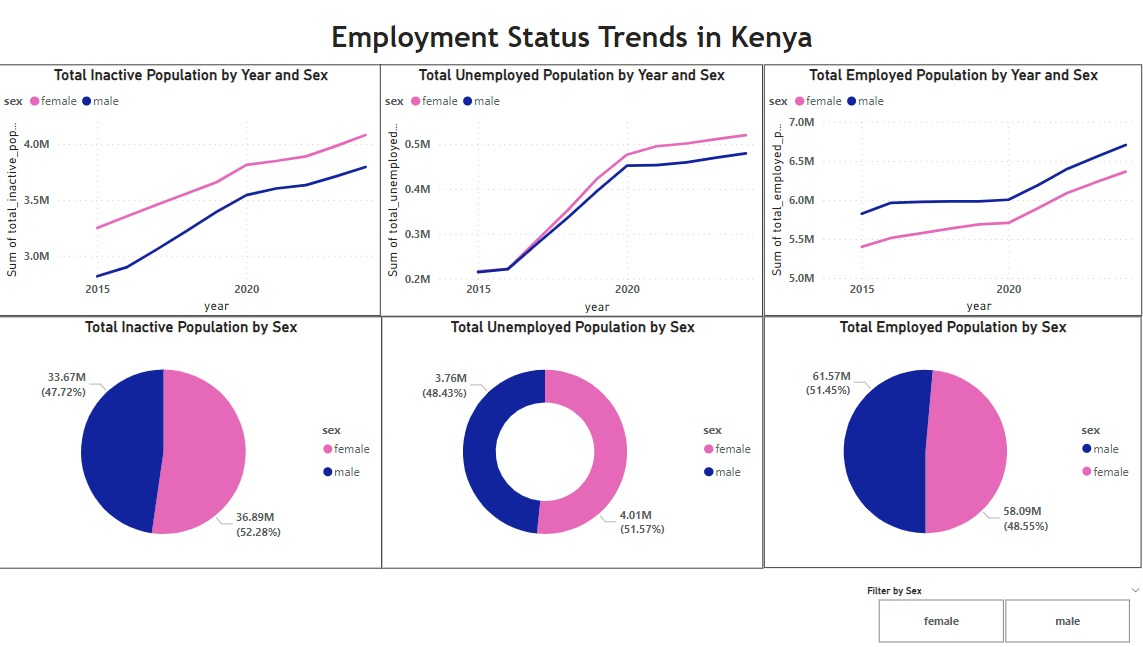

What the dashboard file says about the page in this screenshot:
{"tool":"powerbi","page":{"name":"Employment trends","canvas":[1280,720],"ordinal":0},"visuals":[{"type":"lineChart","title":"Total Inactive Population by Year and Sex","fields":{"Category":["updated_education_df.year"],"Y":["Sum(updated_education_df.total_inactive_population)"],"Series":["updated_education_df.sex"]},"box":[0,72.1,425.5,279.6],"z":0},{"type":"pieChart","title":"Total Inactive Population by Sex","fields":{"Category":["updated_education_df.sex"],"Y":["Sum(updated_education_df.total_inactive_population)"]},"box":[0,351.1,425.5,279.9],"z":1000},{"type":"donutChart","title":"Total Unemployed Population by Sex","fields":{"Y":["Sum(updated_education_df.total_unemployed_population)"],"Category":["updated_education_df.sex"]},"box":[425.5,351.1,423.9,279.9],"z":2000},{"type":"lineChart","title":"Total Unemployed Population by Year and Sex","fields":{"Y":["Sum(updated_education_df.total_unemployed_population)"],"Category":["updated_education_df.year"],"Series":["updated_education_df.sex"]},"box":[424,72,425,280],"z":3000},{"type":"lineChart","title":"Total Employed Population by Year and Sex","fields":{"Y":["Sum(updated_education_df.total_employed_population)"],"Category":["updated_education_df.year"],"Series":["updated_education_df.sex"]},"box":[849.2,72.1,420.2,279.6],"z":4000},{"type":"slicer","fields":{"Values":["updated_education_df.sex"]},"box":[951.2,645.3,328.8,75.6],"z":5000},{"type":"pieChart","title":"Total Employed Population by Sex","fields":{"Y":["Sum(updated_education_df.total_employed_population)"],"Category":["updated_education_df.sex"]},"box":[850,352,419,279],"z":6000},{"type":"textbox","box":[350,16,573,49],"z":7000}]}

Visuals, with their boxes in screenshot pixels (x1, y1, x2, y2), scaled from the page's 1280x720 canvas onto the 1143x647 screenshot:
"Total Inactive Population by Year and Sex" lineChart: <region>0, 65, 380, 316</region>
"Total Inactive Population by Sex" pieChart: <region>0, 316, 380, 567</region>
"Total Unemployed Population by Sex" donutChart: <region>380, 316, 758, 567</region>
"Total Unemployed Population by Year and Sex" lineChart: <region>379, 65, 758, 316</region>
"Total Employed Population by Year and Sex" lineChart: <region>758, 65, 1134, 316</region>
slicer - updated_education_df.sex: <region>849, 580, 1142, 646</region>
"Total Employed Population by Sex" pieChart: <region>759, 316, 1133, 567</region>
textbox: <region>313, 14, 824, 58</region>
